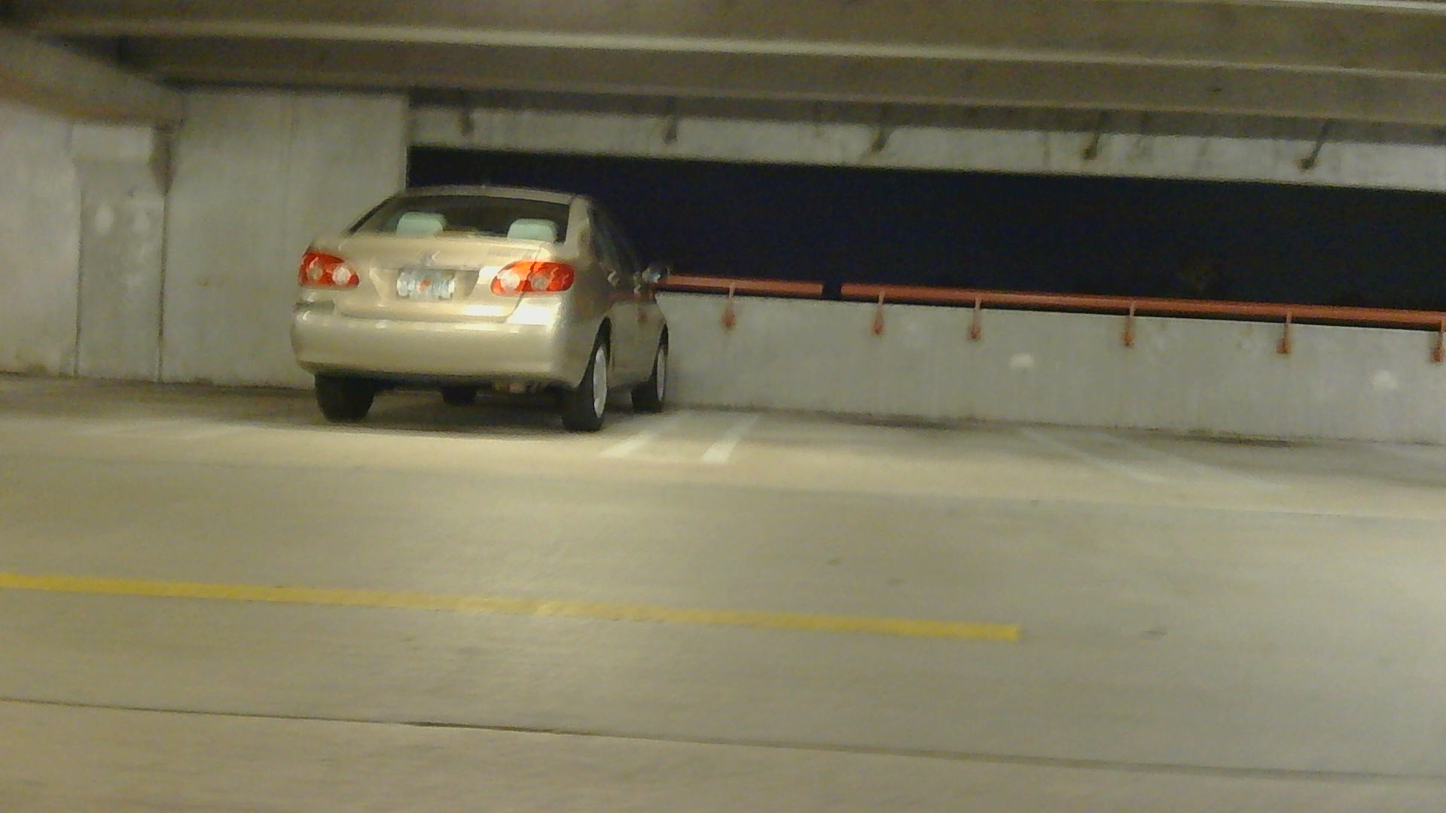empty_spot: (709, 337, 1164, 479), (1088, 351, 1446, 489)
occupied_spot: (290, 178, 688, 444)
